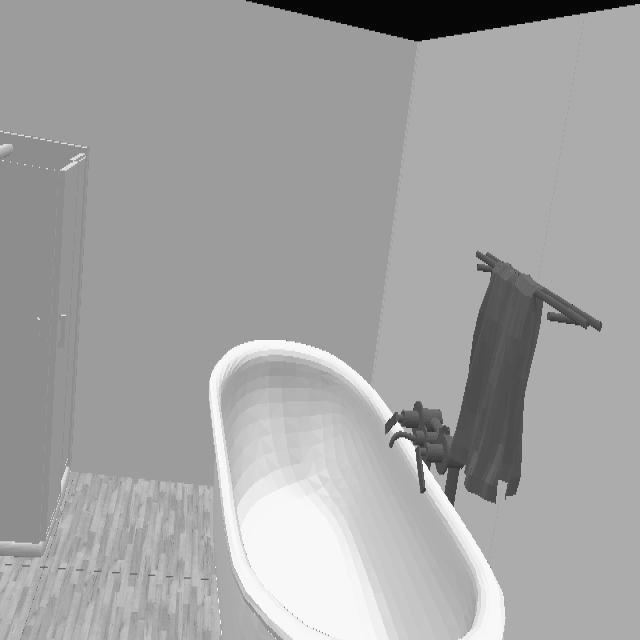bathtube: (208, 340, 505, 640)
shower: (0, 132, 90, 560)
